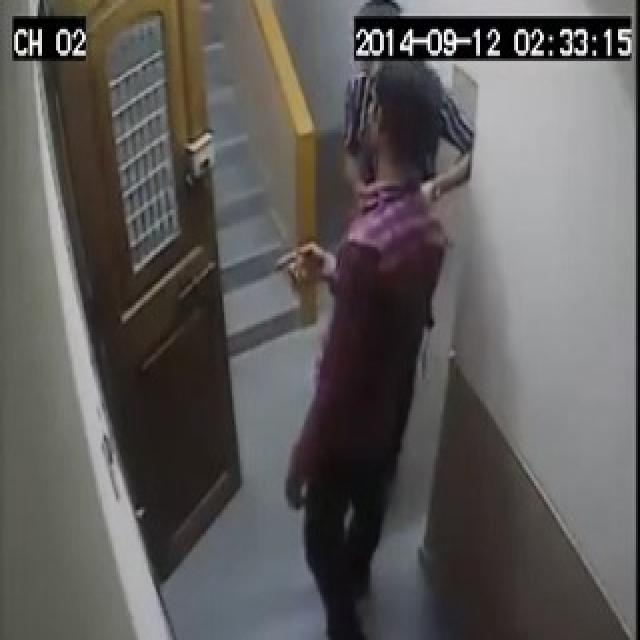thief: (284, 0, 476, 640)
